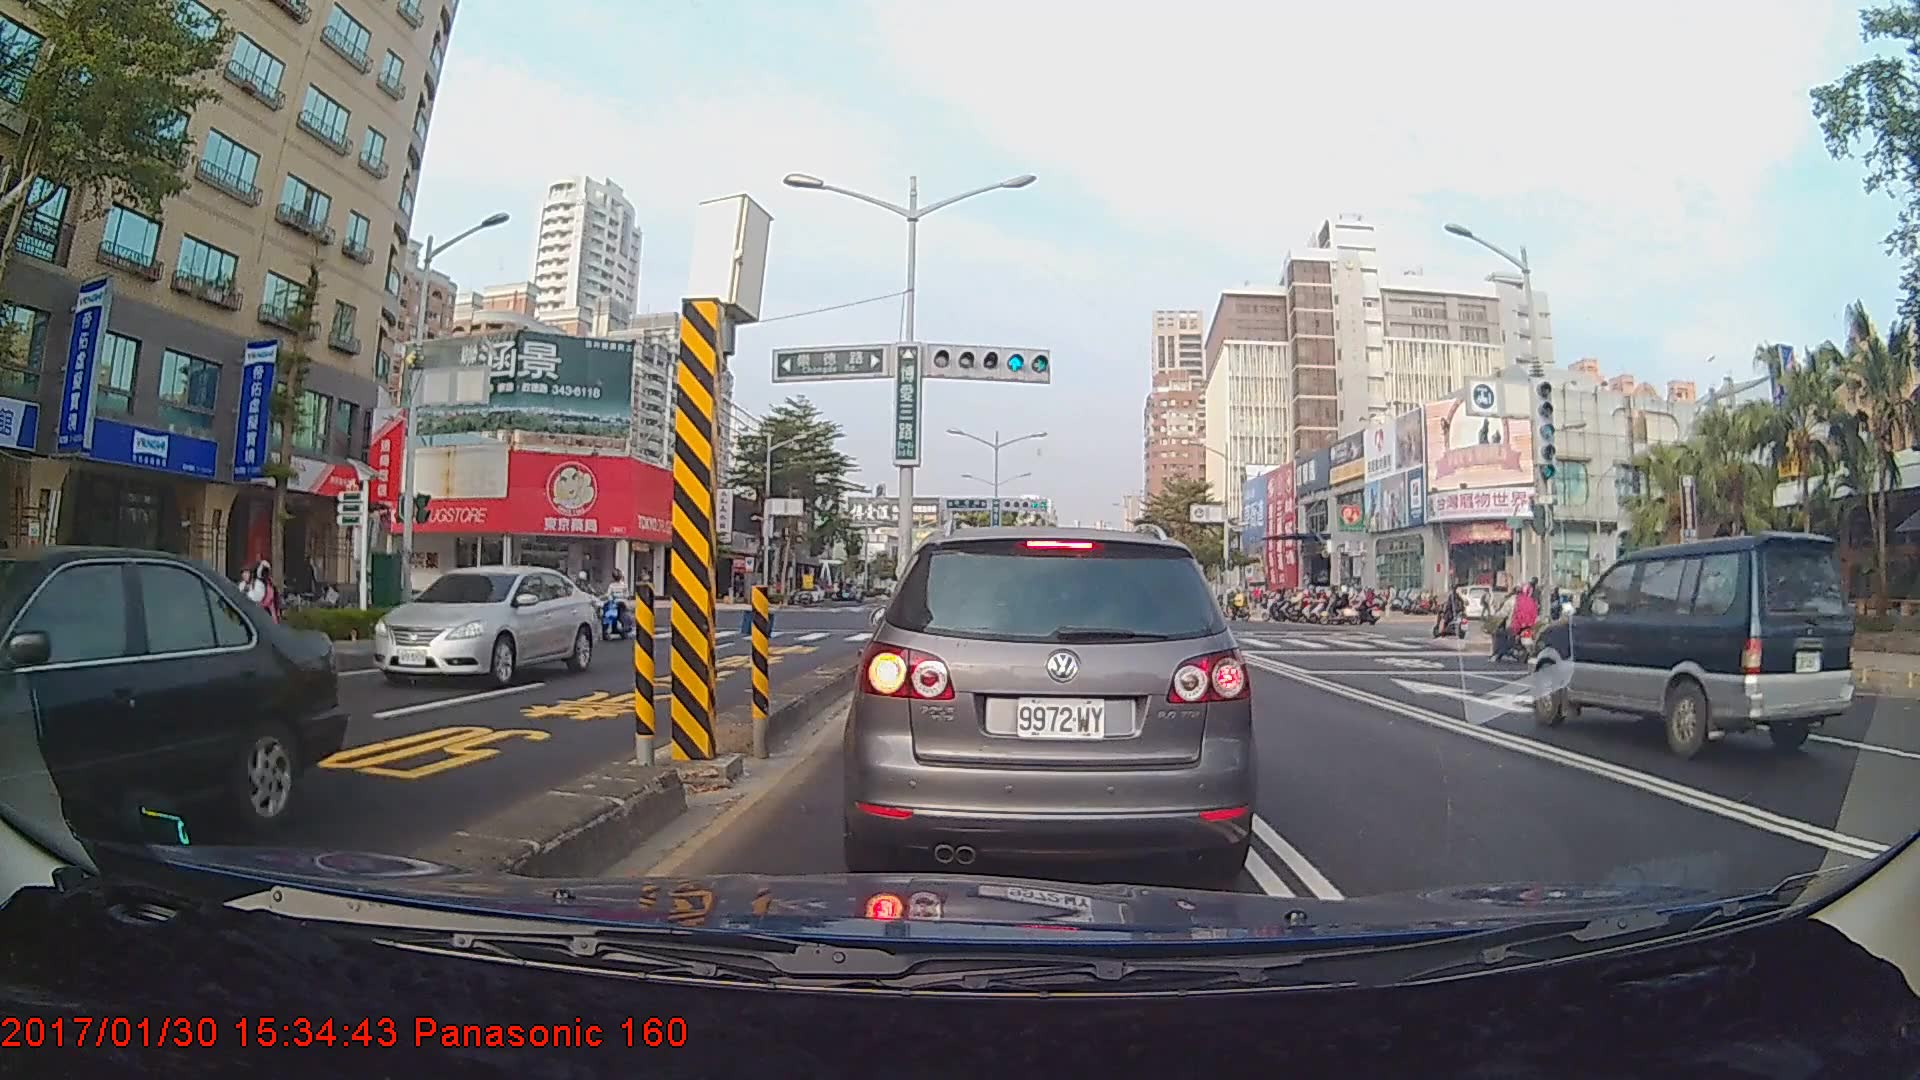rider: (1485, 582, 1548, 668), (1436, 582, 1473, 646)
vehicle: (851, 522, 1249, 883), (0, 542, 342, 908), (1530, 529, 1855, 758), (366, 565, 600, 687)
